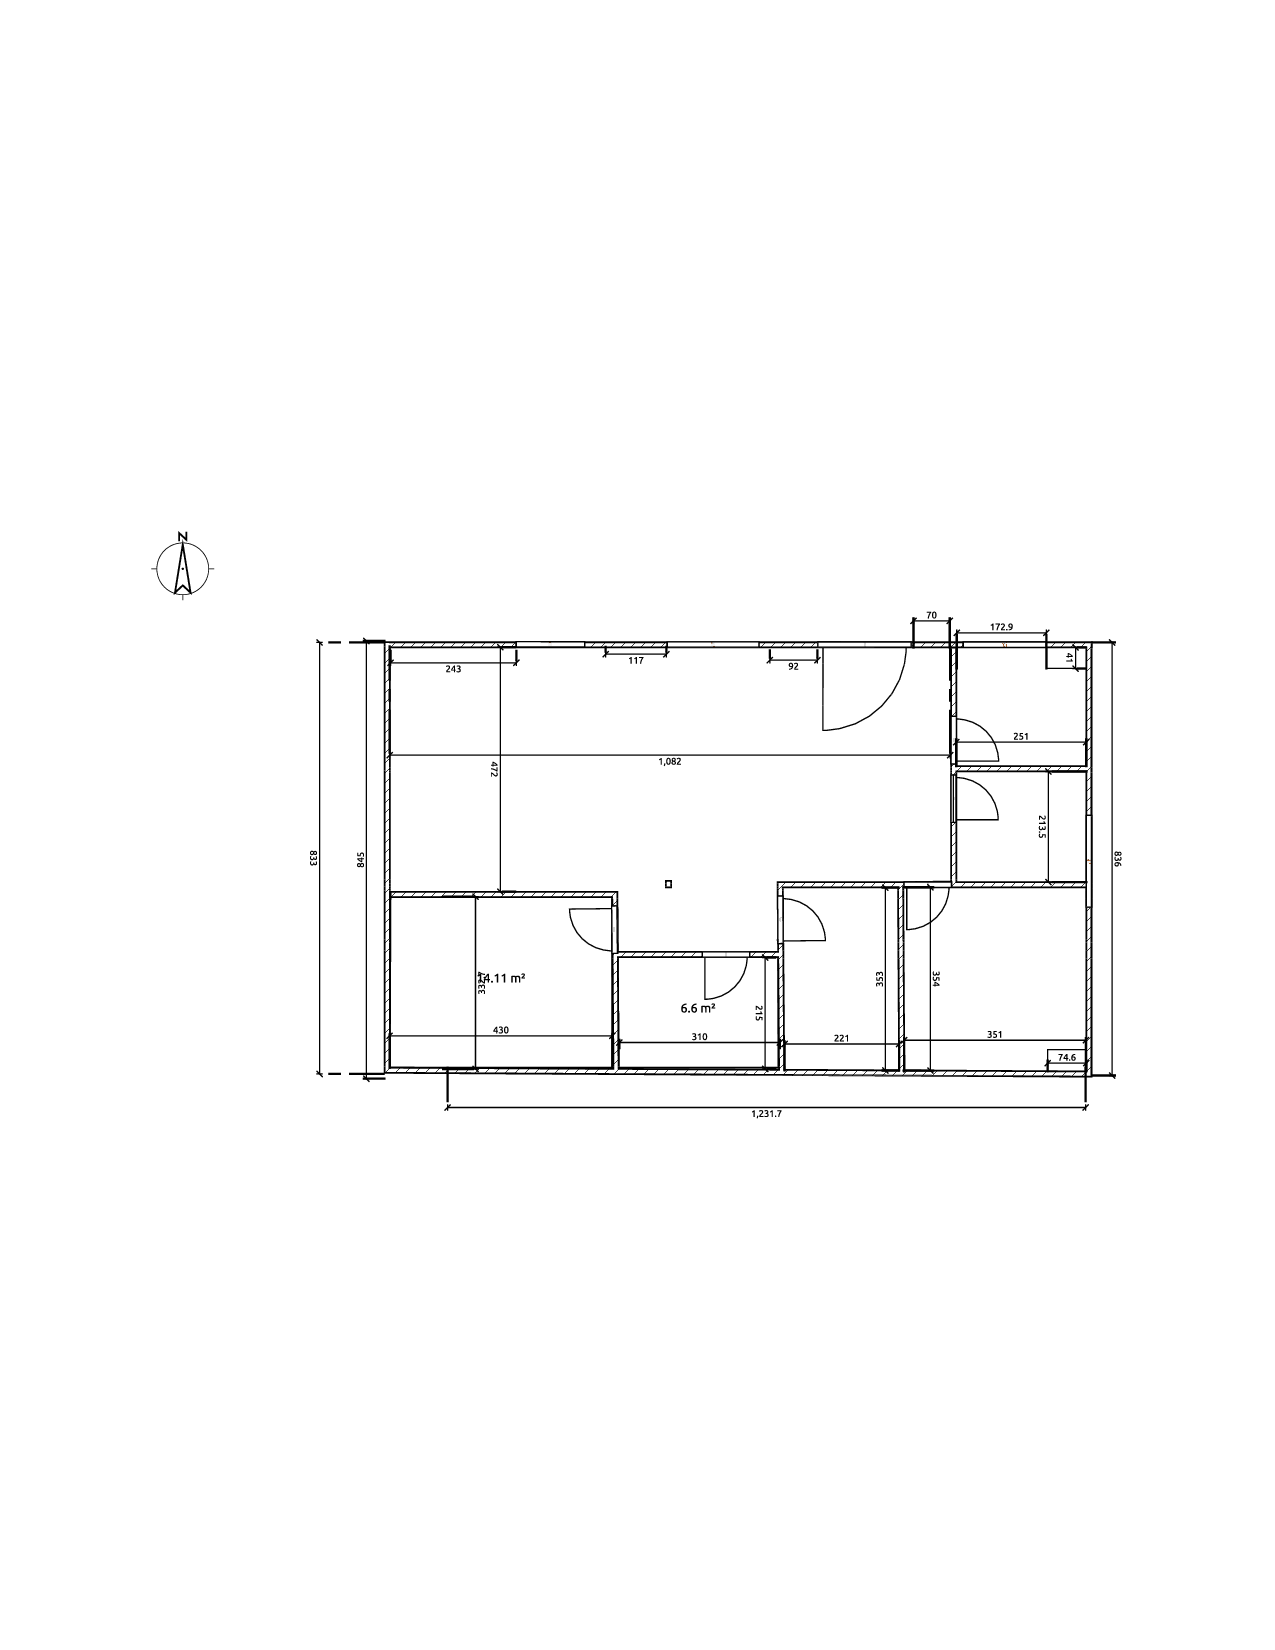door: (817, 659, 921, 750), (700, 962, 743, 1021), (564, 900, 605, 959), (790, 891, 832, 950), (963, 771, 1004, 830)
